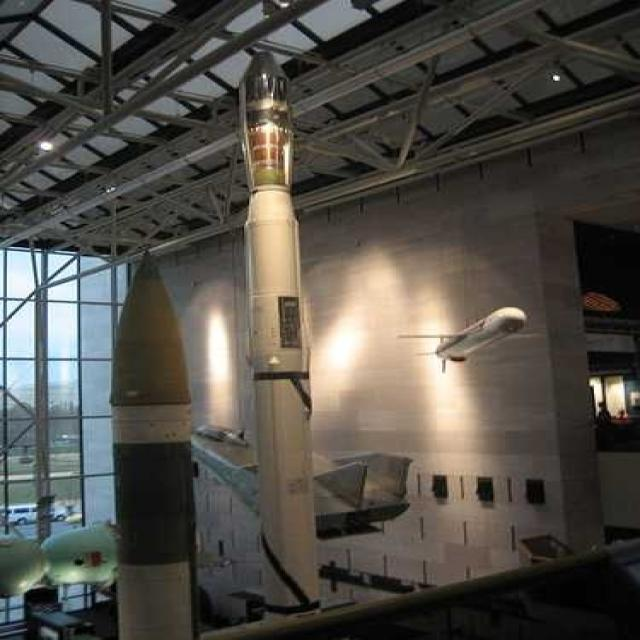missile: (231, 46, 331, 617), (104, 246, 200, 640)
